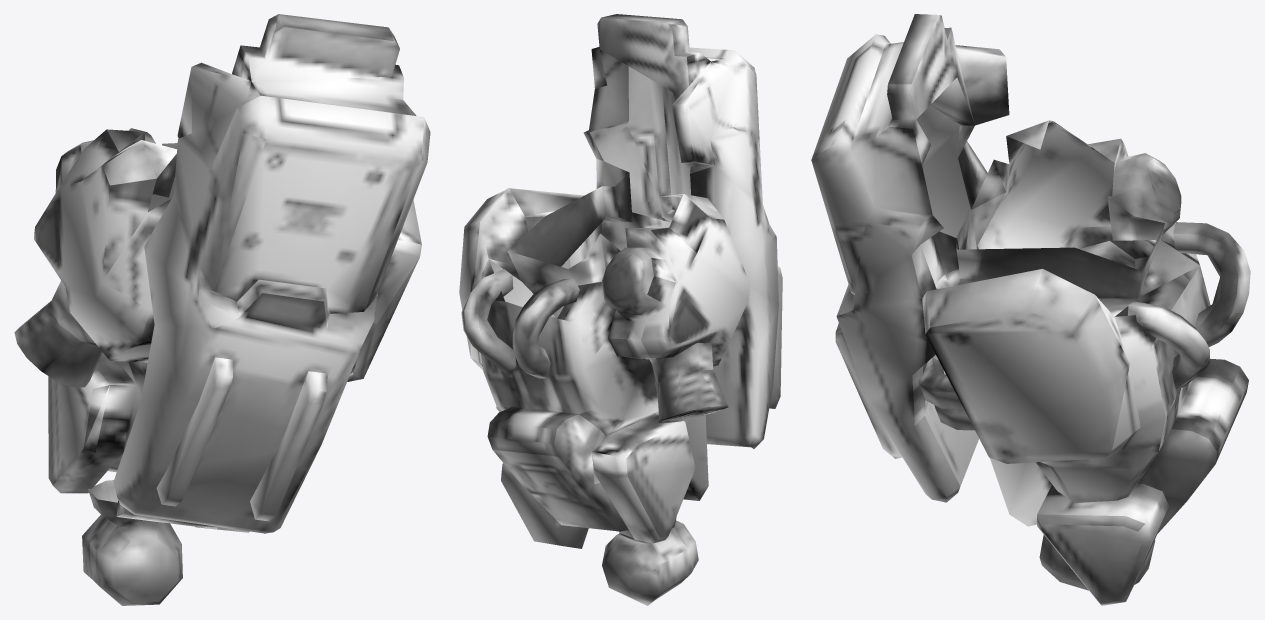
File: r_shin.glb
3 renders of one model, left to right at view 1: azimuth 30°, elevation 25°; view 2: azimuth 150°, elevation 25°; view 3: azimuth 270°, elevation 25°, orthographic. The views are drawn at different scales.
Visible parts, largest first — view 1: r_shin; view 2: r_shin; view 3: r_shin.
Part boxes in pixels (bbox=[...]): r_shin: bbox=[14, 14, 430, 605]; r_shin: bbox=[459, 14, 782, 605]; r_shin: bbox=[811, 14, 1250, 605].
Bounding box in the file's own units: 0.7816 × 1.37 × 0.908.
3 materials, 3 textured.
